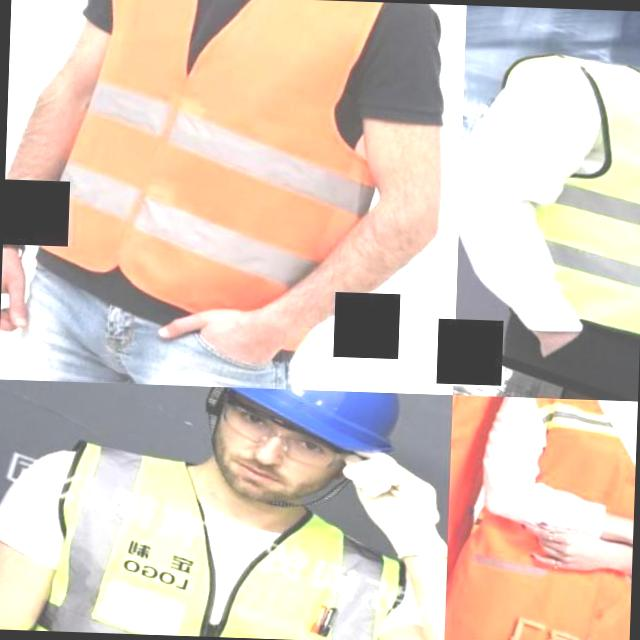vest: (11, 0, 430, 377), (5, 449, 424, 640), (447, 395, 637, 640), (522, 58, 640, 381), (444, 395, 550, 626)
